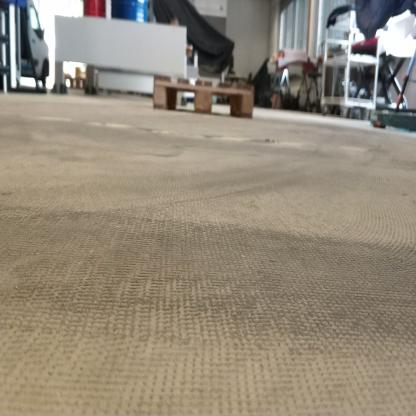BoxFace: (149, 68, 257, 127)
